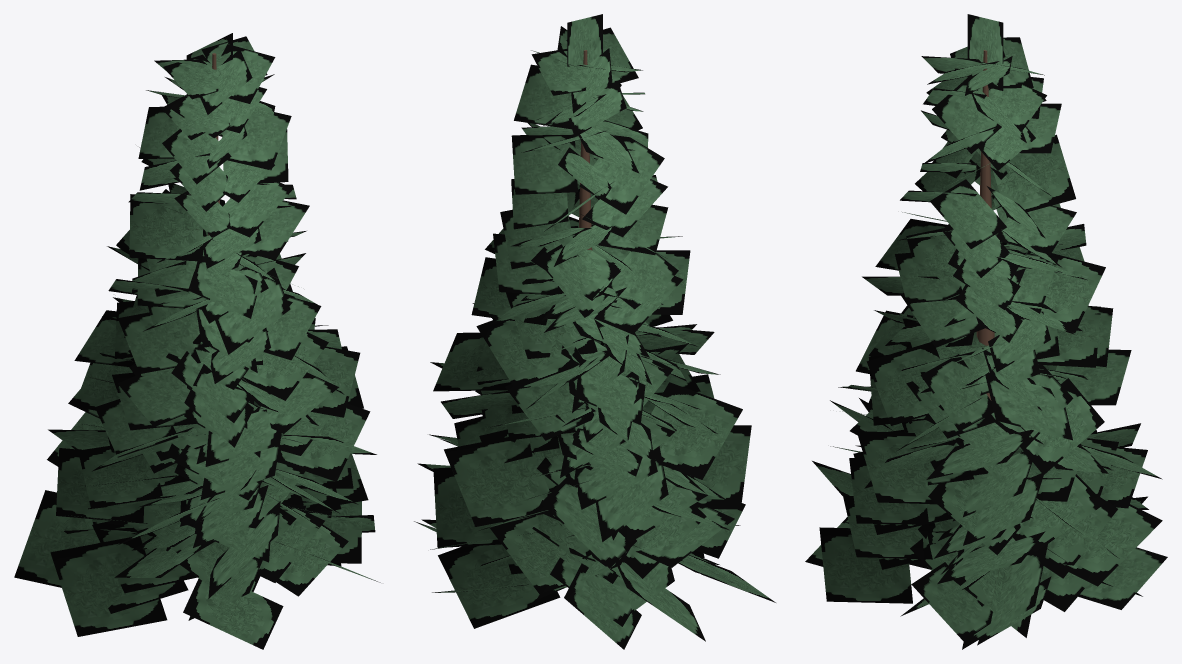
The model's file is pine_1_mid.glb.
The picture shows the model from 3 angles, left to right: view 1: azimuth 30°, elevation 25°; view 2: azimuth 150°, elevation 25°; view 3: azimuth 270°, elevation 25°; orthographic projection.
Parts seen in each view (by area): view 1: pine_1_mid; view 2: pine_1_mid; view 3: pine_1_mid.
Boxes of the visible parts, bbox=[...] form: pine_1_mid: bbox=[14, 33, 380, 649]; pine_1_mid: bbox=[414, 14, 775, 649]; pine_1_mid: bbox=[805, 14, 1167, 649].
Size of the model in its own units: 7.5 by 13.12 by 7.39.
2 materials, 1 textured.
